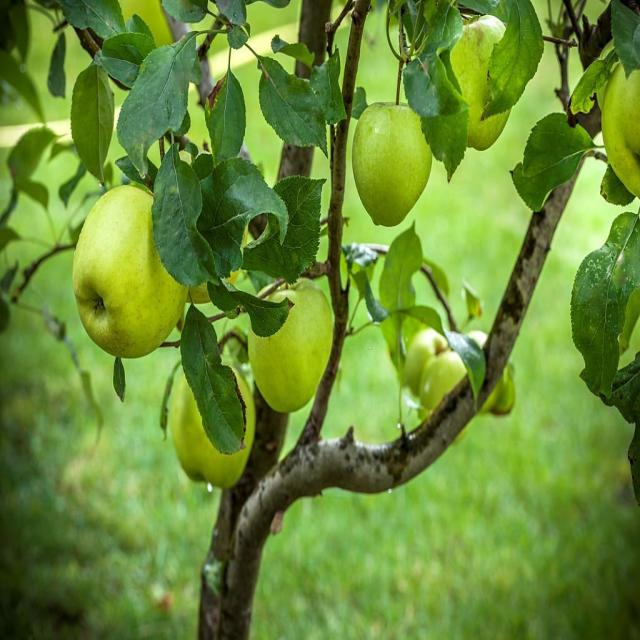Green Apple: (72, 187, 185, 355), (348, 95, 425, 228), (257, 278, 331, 410), (445, 16, 516, 152), (177, 370, 260, 486), (600, 58, 640, 184), (425, 359, 471, 421), (411, 328, 446, 388)
